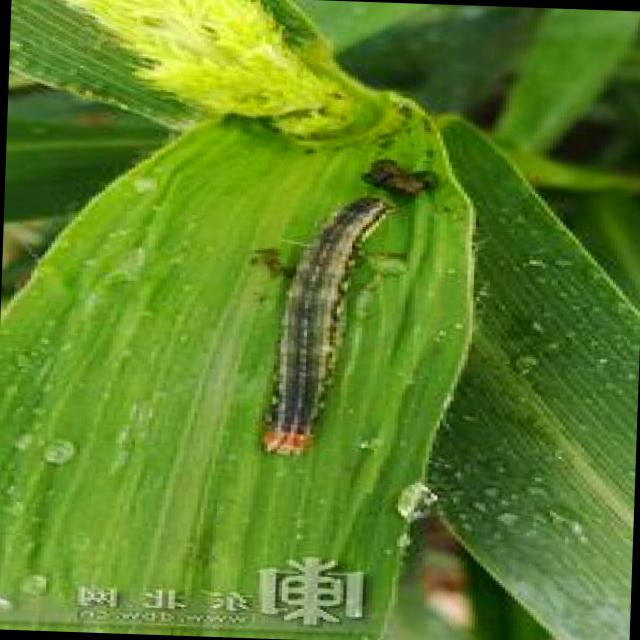pest: (257, 189, 403, 453)
